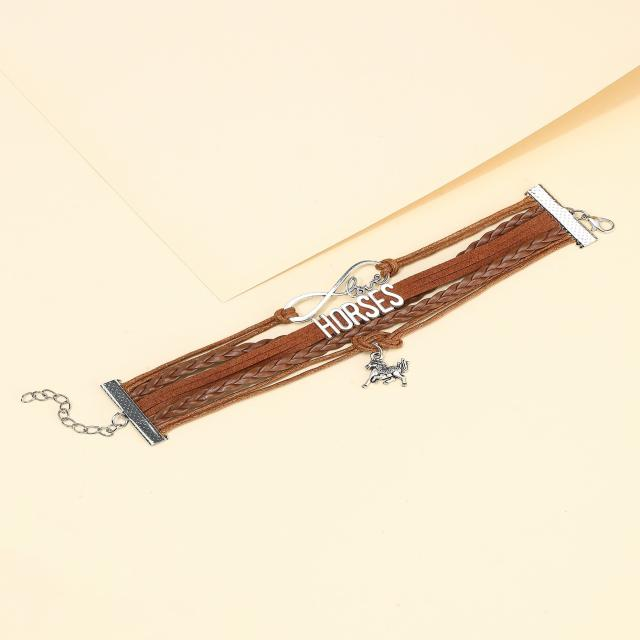bracelet: (0, 158, 640, 517)
